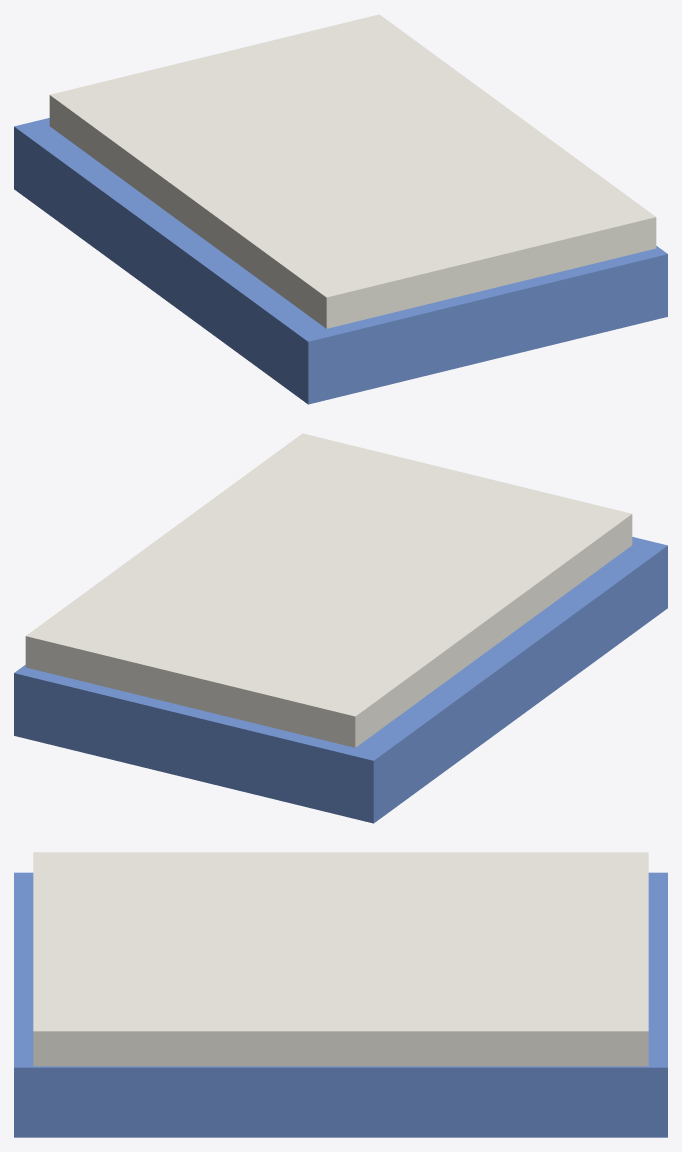
The model's file is book.glb.
The picture shows the model from 3 angles, top to bottom: view 1: azimuth 30°, elevation 25°; view 2: azimuth 150°, elevation 25°; view 3: azimuth 270°, elevation 25°; orthographic projection. The views are drawn at different scales.
Size of the model in its own units: 0.6 by 0.15 by 0.85.
